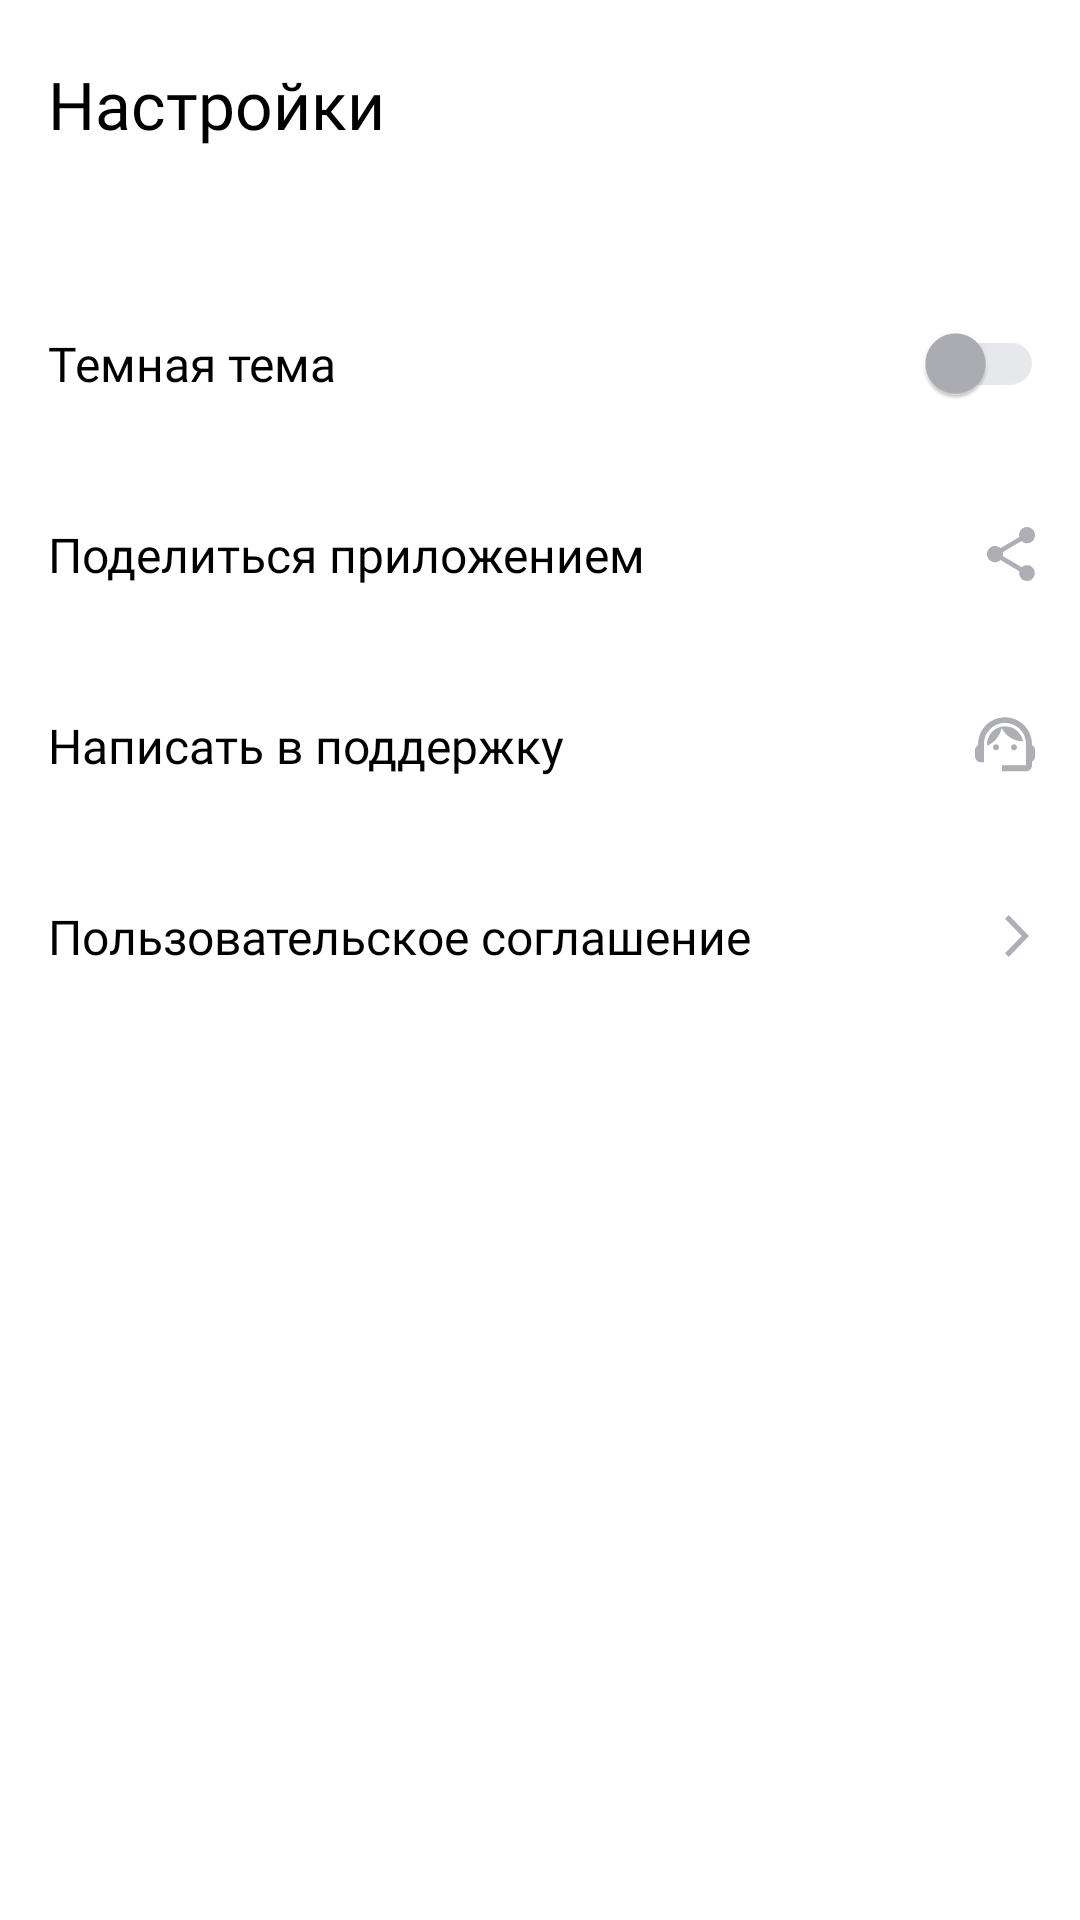

Icons on this 1080*1920 Android screen, each with its box as Rect(x1, y1, x2, y2):
arrow right: Rect(1005, 915, 1029, 957)
share: Rect(987, 527, 1035, 581)
support: Rect(975, 717, 1035, 771)
